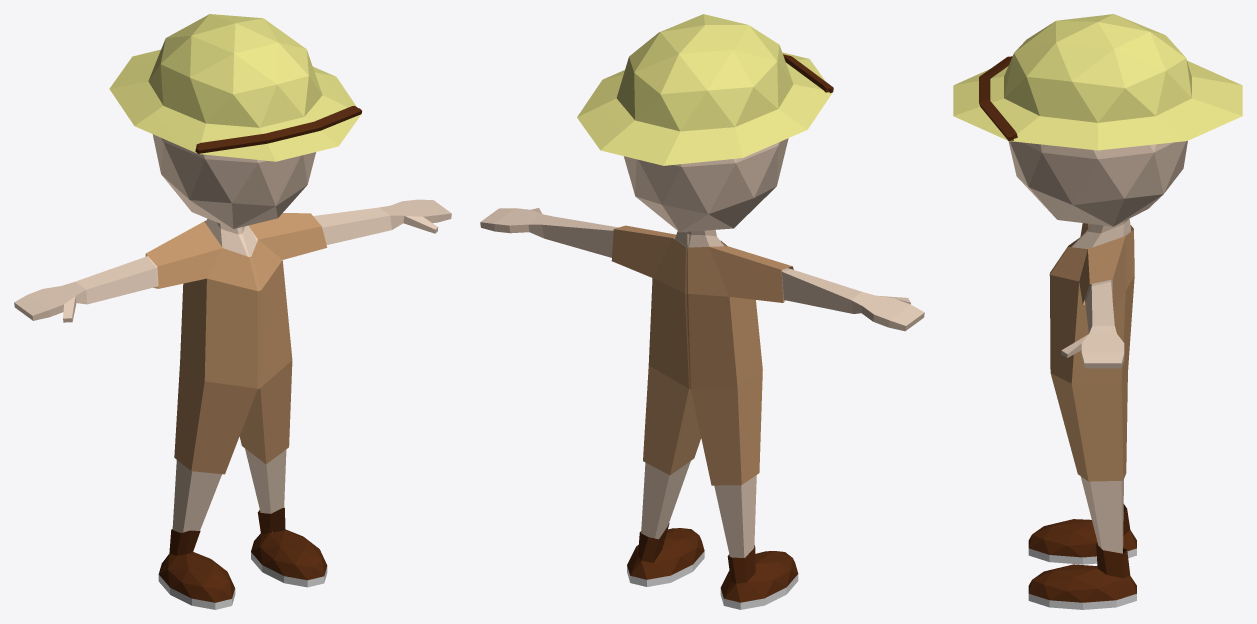
The model's file is explorateur.fbx.
3 renders of one model, left to right at view 1: azimuth 30°, elevation 25°; view 2: azimuth 150°, elevation 25°; view 3: azimuth 270°, elevation 25°, orthographic.
Parts seen in each view (by area): view 1: Shoe; view 2: Shoe; view 3: Shoe.
Part boxes in pixels (bbox=[...]): Shoe: bbox=[14, 14, 451, 609]; Shoe: bbox=[480, 14, 924, 609]; Shoe: bbox=[953, 14, 1242, 609].
Size of the model in its own units: 582 by 727 by 345.
